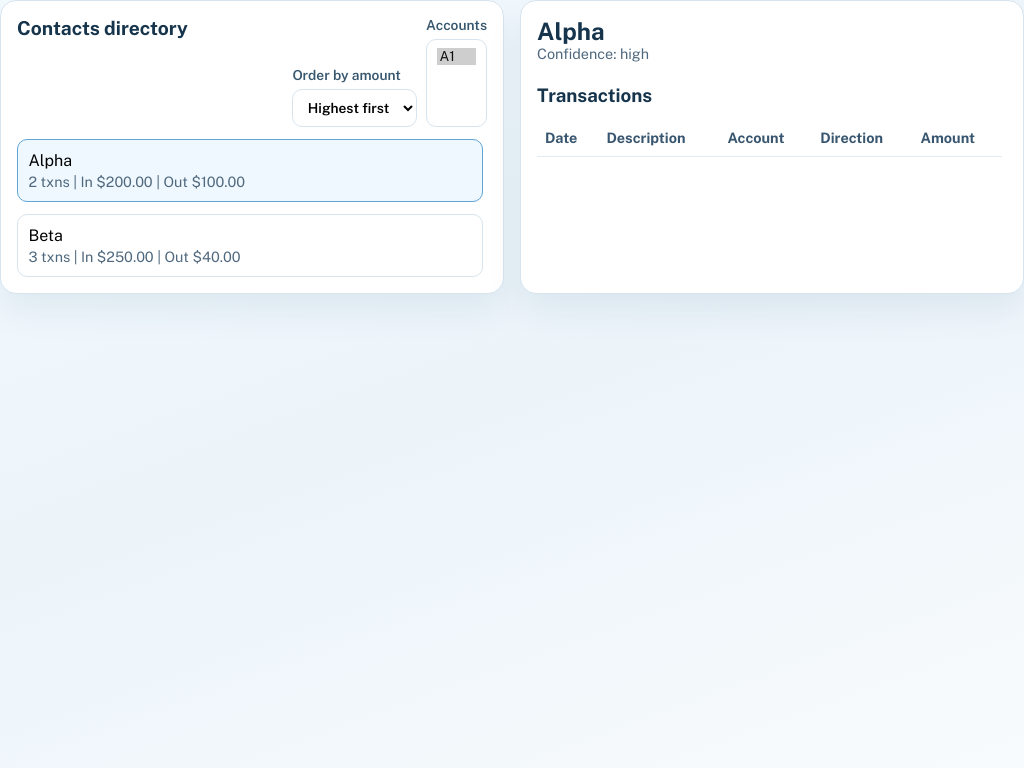
it: ContactsPage › keeps selected contact and updates right panel details on click
Click the button "Beta 3 txns | In $250.00 | Out $40.00": click(46, 235) [17,214,483,277]
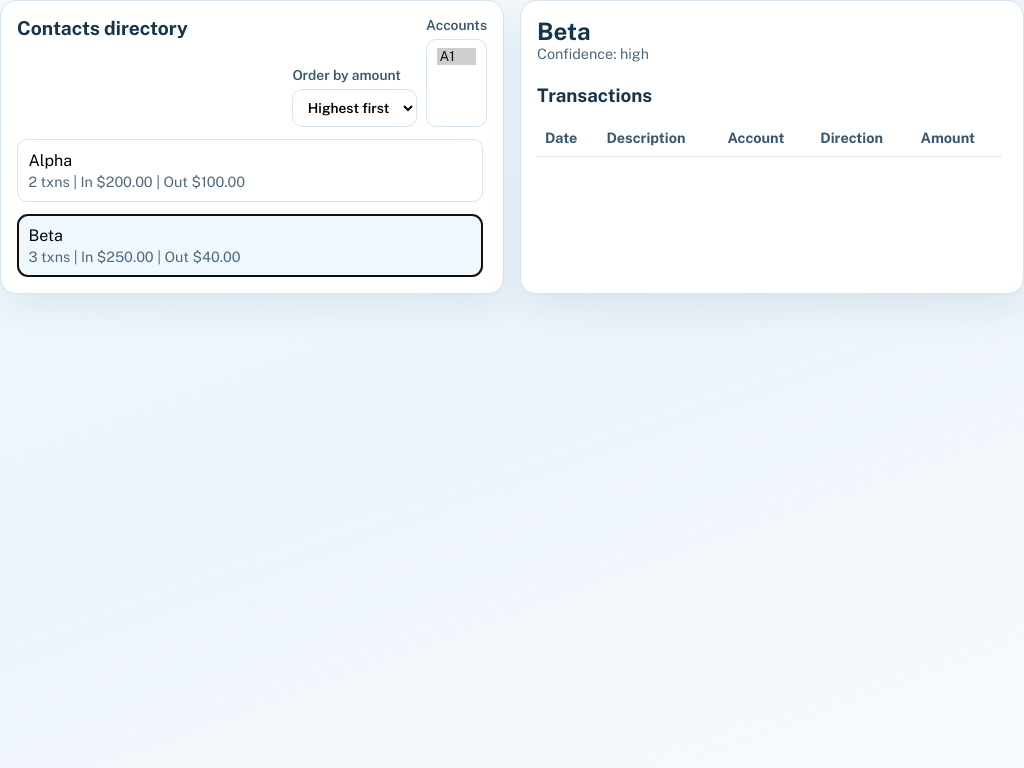
Expected: the heading "Beta" is shown, [537,17,591,45]
